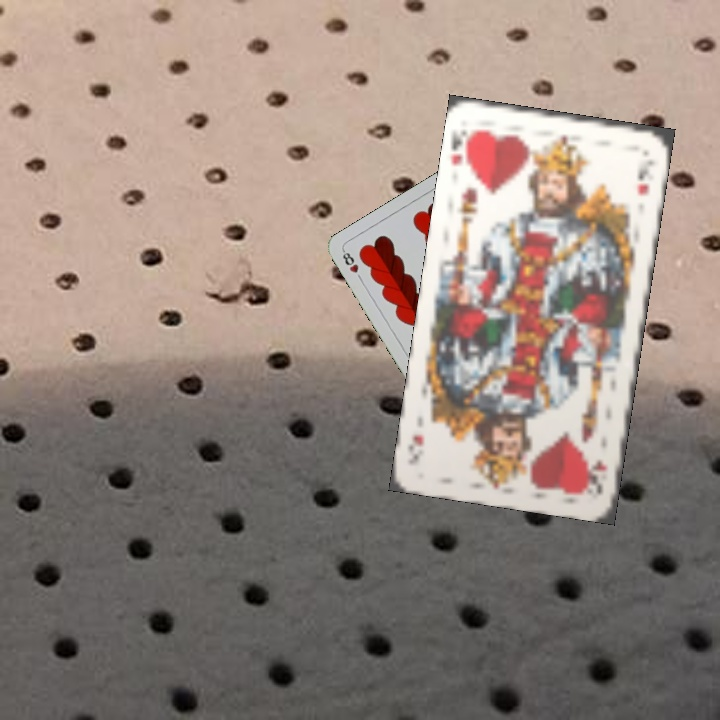H8: (338, 246, 361, 276)
HK: (446, 125, 478, 175), (584, 455, 610, 496)
